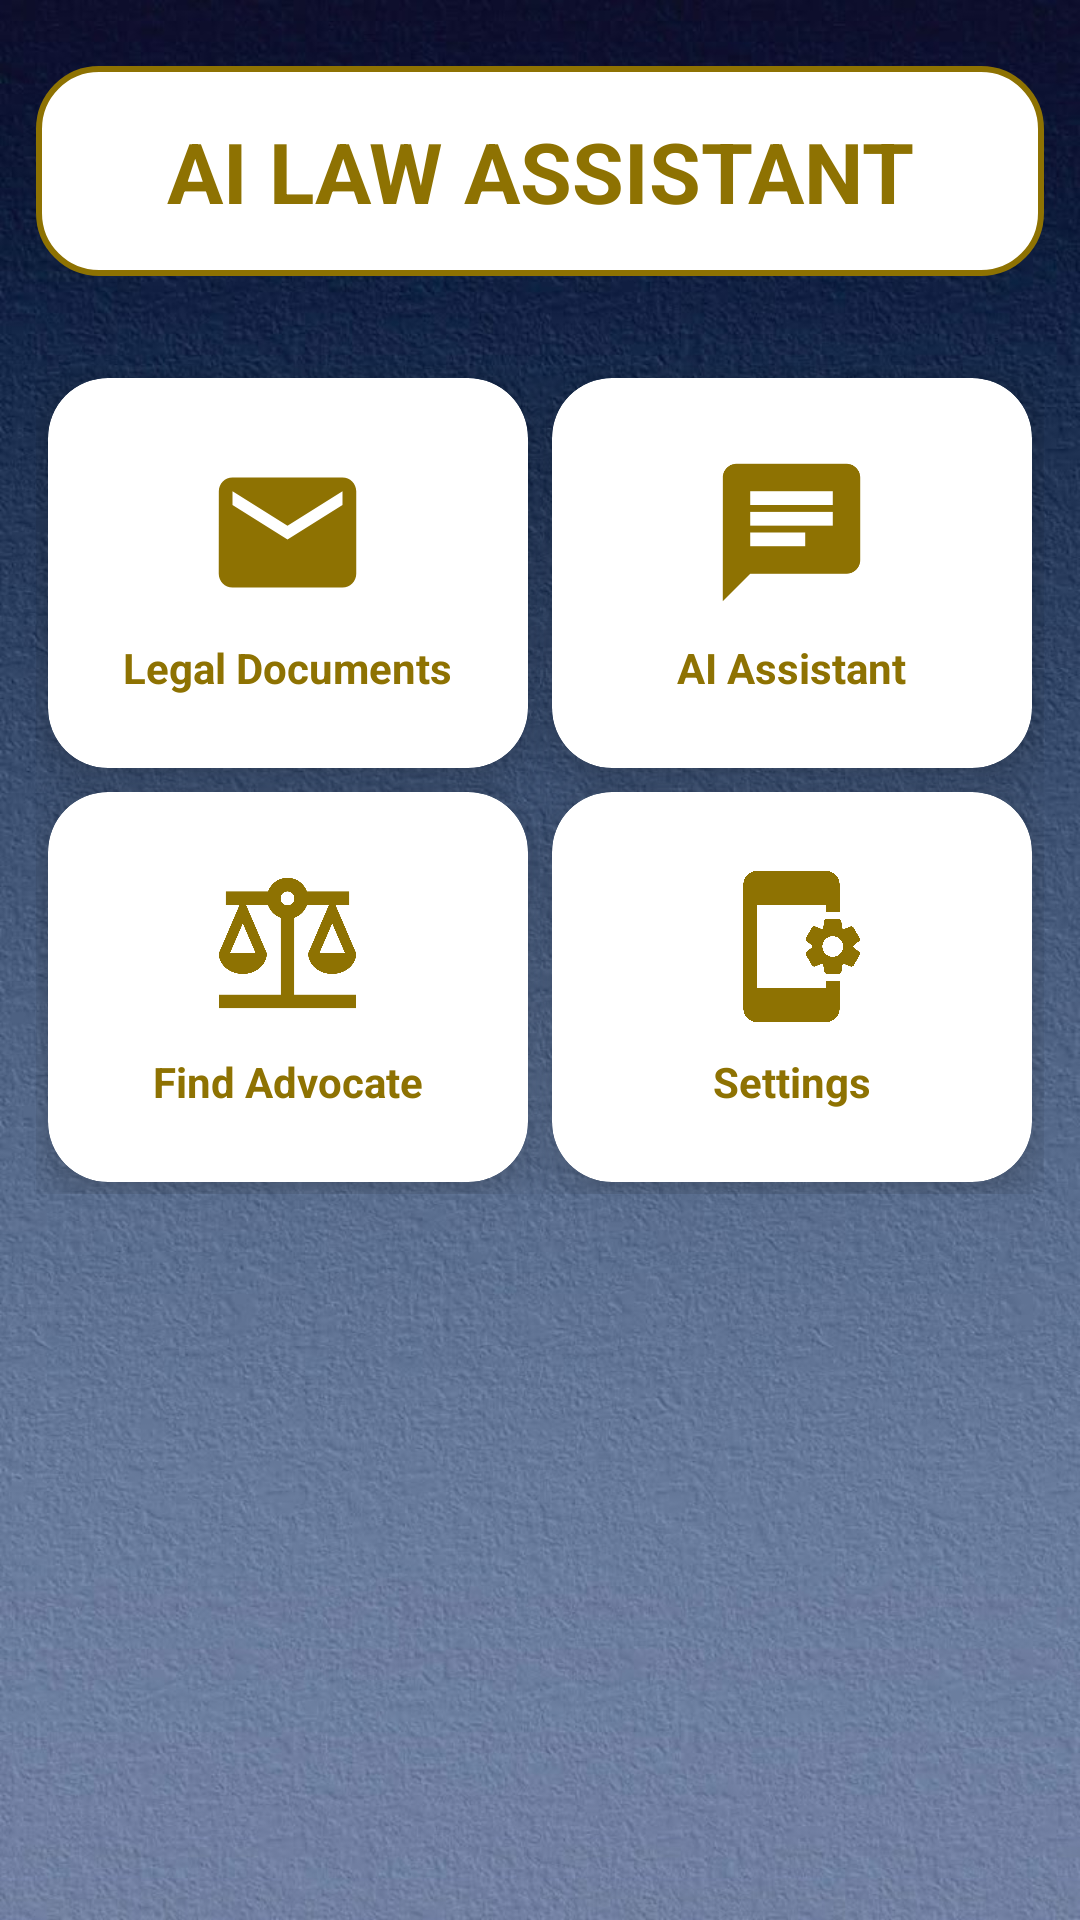

Locate icon controls on the screen. Image size 1080×1920, boxes as rect(x1, y1, x2, y2).
balance: rect(219, 878, 356, 1008)
chat: rect(722, 463, 861, 601)
email: rect(218, 477, 357, 588)
